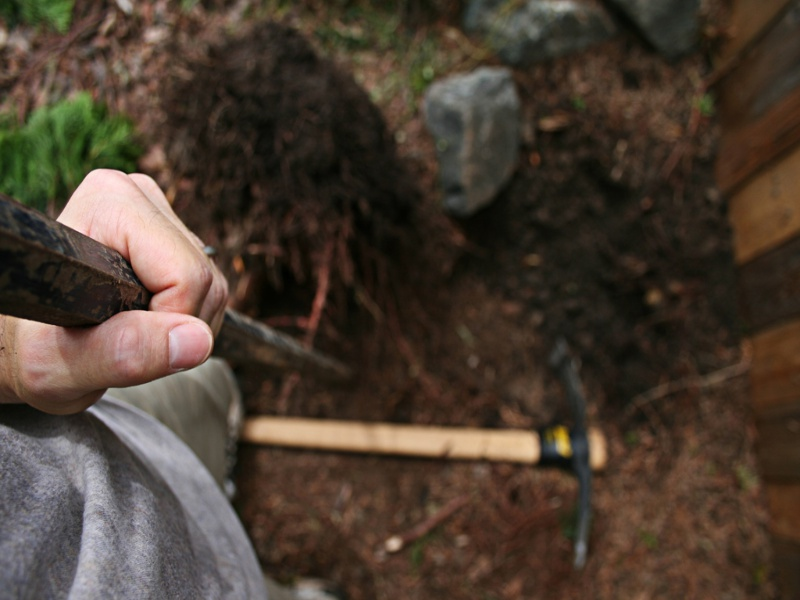axe: (512, 333, 611, 572)
